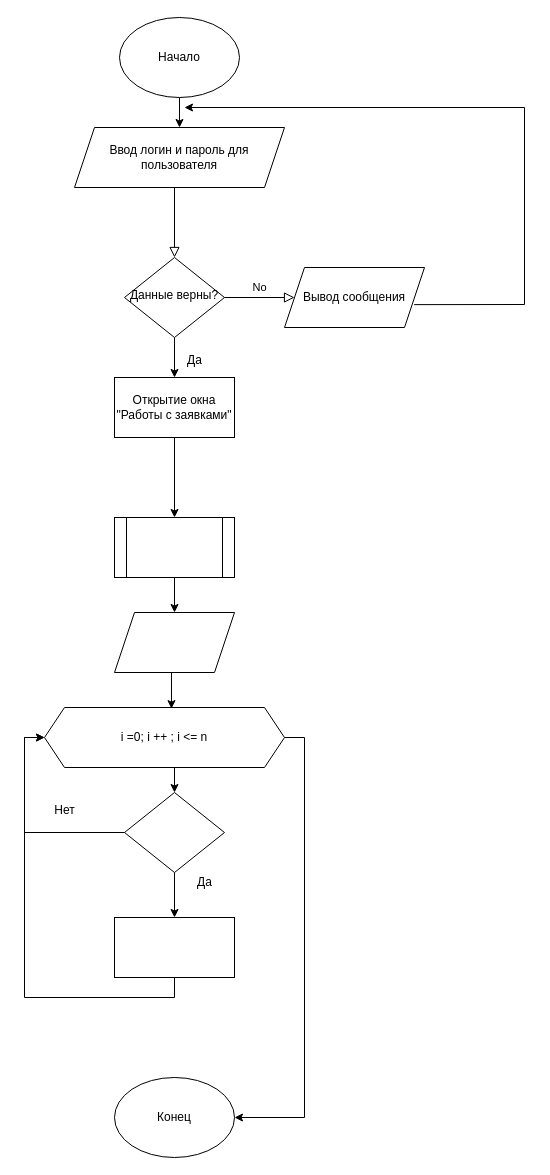
Image size: 550x1175. Some labels were removed from this diagram. Each missing label, with the box of its shape:
CountCheck += 1: (114, 916, 234, 978)
CountCheck = 0: (114, 612, 234, 672)
Заявка отмечена?: (124, 792, 224, 872)
Получение информаций о заявках: (114, 516, 234, 578)
